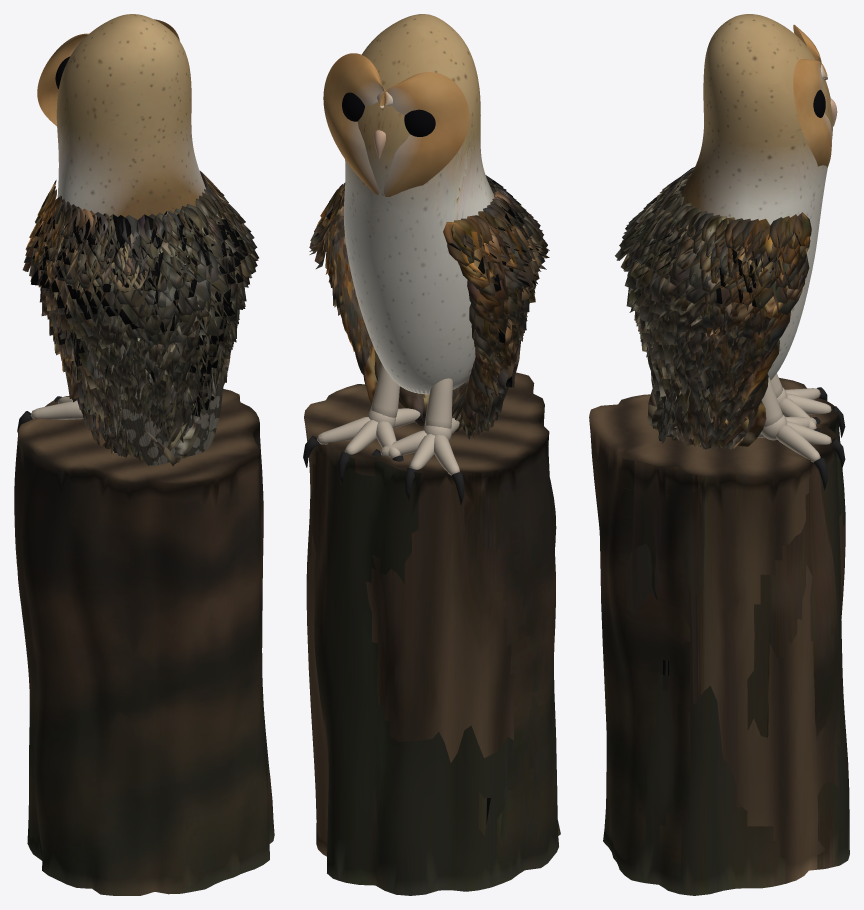
The model's file is owl.stylized.backup.glb.
The picture shows the model from 3 angles, left to right: view 1: azimuth 30°, elevation 25°; view 2: azimuth 150°, elevation 25°; view 3: azimuth 270°, elevation 25°; orthographic projection.
Visible parts, largest first — view 1: Wood_Stump_E, WingFeathers_L_E, Owl_Body_E, WingFeathers_R_E, Tail_Feathers_E, Facial_Disk_E, Foot_L_E; view 2: Wood_Stump_E, Owl_Body_E, WingFeathers_L_E, Facial_Disk_E, WingFeathers_R_E, Foot_R_E, Foot_L_E, Eye_L_E, Talons_R_E, Talons_L_E; view 3: Wood_Stump_E, WingFeathers_R_E, Owl_Body_E, Facial_Disk_E, Foot_R_E, Foot_L_E, WingFeathers_L_E, Tail_Feathers_E.
Boxes of the visible parts, left/top/right/bottom form: Wood_Stump_E: left=14, top=389, right=274, bottom=895; WingFeathers_L_E: left=22, top=180, right=201, bottom=466; Owl_Body_E: left=56, top=14, right=206, bottom=219; WingFeathers_R_E: left=132, top=171, right=258, bottom=462; Tail_Feathers_E: left=118, top=373, right=222, bottom=465; Facial_Disk_E: left=37, top=19, right=179, bottom=126; Foot_L_E: left=30, top=396, right=83, bottom=419; Wood_Stump_E: left=304, top=372, right=560, bottom=895; Owl_Body_E: left=344, top=14, right=494, bottom=394; WingFeathers_L_E: left=443, top=175, right=549, bottom=439; Facial_Disk_E: left=323, top=53, right=469, bottom=196; WingFeathers_R_E: left=309, top=182, right=429, bottom=425; Foot_R_E: left=317, top=363, right=420, bottom=458; Foot_L_E: left=380, top=378, right=459, bottom=475; Eye_L_E: left=404, top=109, right=435, bottom=136; Talons_R_E: left=303, top=436, right=403, bottom=484; Talons_L_E: left=372, top=449, right=463, bottom=505; Wood_Stump_E: left=589, top=378, right=849, bottom=895; WingFeathers_R_E: left=615, top=187, right=811, bottom=449; Owl_Body_E: left=681, top=14, right=832, bottom=380; Facial_Disk_E: left=793, top=24, right=831, bottom=167; Foot_R_E: left=757, top=377, right=831, bottom=462; Foot_L_E: left=771, top=373, right=831, bottom=429; WingFeathers_L_E: left=620, top=167, right=694, bottom=440; Tail_Feathers_E: left=658, top=383, right=677, bottom=443.
Bounding box in the file's own units: 0.2285 × 0.8019 × 0.2299.
Materials: 10 (6 with a texture image).
